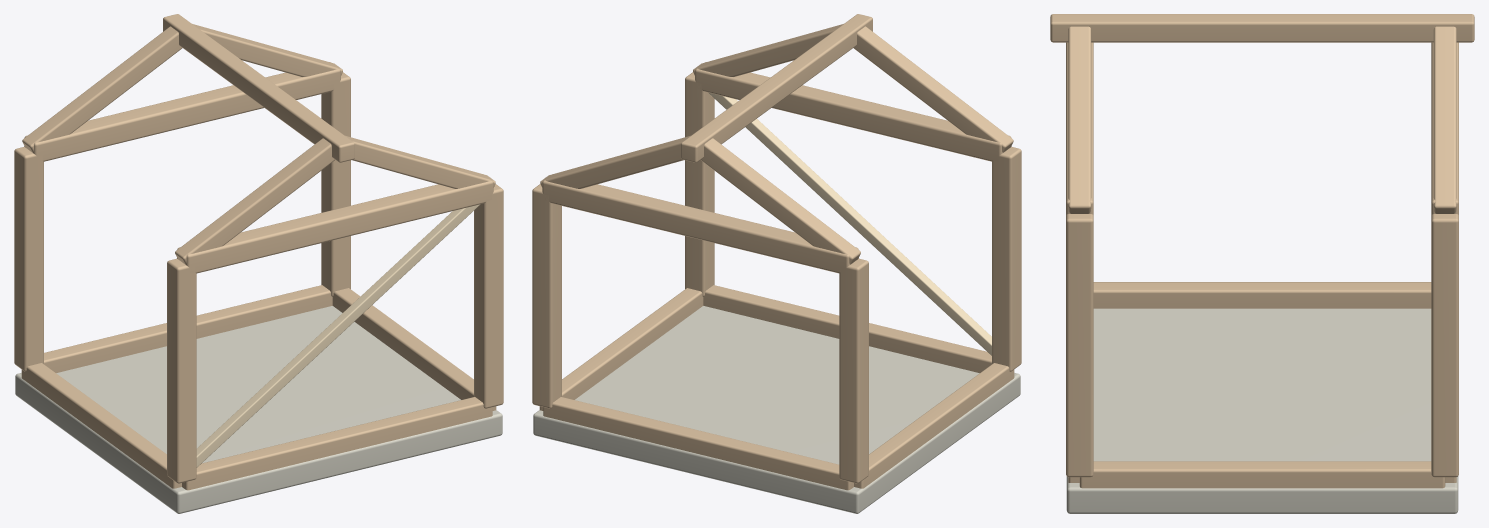
File: family-home-frame.glb
The picture shows the model from 3 angles, left to right: view 1: azimuth 30°, elevation 25°; view 2: azimuth 150°, elevation 25°; view 3: azimuth 270°, elevation 25°; orthographic projection. The views are drawn at different scales.
Visible parts, largest first — view 1: Rounded stone footing.005, Eave beam.006, Eave beam.007, Sill beam.020, Corner post.012, Corner post.013, Corner post.014, Sill beam.021, Ridge beam.003, Temporary brace.001, Gable rafter.012, Gable rafter.014 (+5 smaller); view 2: Rounded stone footing.005, Eave beam.007, Eave beam.006, Sill beam.021, Corner post.013, Corner post.012, Corner post.015, Sill beam.020, Ridge beam.003, Temporary brace.001, Gable rafter.014, Gable rafter.012 (+5 smaller); view 3: Rounded stone footing.005, Ridge beam.003, Sill beam.023, Sill beam.022, Corner post.014, Corner post.015, Gable rafter.013, Gable rafter.015, Eave beam.006, Eave beam.007.
Boxes of the visible parts, x1,y1,x2,y2 form: Rounded stone footing.005: (15, 306, 502, 513); Eave beam.006: (177, 180, 493, 273); Eave beam.007: (24, 62, 340, 161); Sill beam.020: (182, 397, 492, 490); Corner post.012: (167, 258, 196, 483); Corner post.013: (14, 147, 43, 371); Corner post.014: (474, 184, 503, 408); Sill beam.021: (44, 285, 332, 372); Ridge beam.003: (163, 14, 354, 162); Temporary brace.001: (196, 204, 480, 467); Gable rafter.012: (175, 138, 334, 264); Gable rafter.014: (22, 26, 182, 152); Rounded stone footing.005: (533, 306, 1020, 513); Eave beam.007: (542, 180, 858, 273); Eave beam.006: (695, 62, 1011, 161); Sill beam.021: (543, 397, 853, 490); Corner post.013: (839, 258, 868, 483); Corner post.012: (992, 147, 1021, 371); Corner post.015: (532, 184, 561, 408); Sill beam.020: (703, 285, 991, 372); Ridge beam.003: (681, 14, 872, 162); Temporary brace.001: (708, 92, 991, 355); Gable rafter.014: (701, 138, 860, 264); Gable rafter.012: (853, 26, 1013, 152); Rounded stone footing.005: (1066, 308, 1458, 513); Ridge beam.003: (1050, 14, 1474, 42); Sill beam.023: (1079, 461, 1445, 488); Sill beam.022: (1093, 282, 1431, 308); Corner post.014: (1066, 214, 1093, 477); Corner post.015: (1431, 214, 1458, 477); Gable rafter.013: (1068, 26, 1091, 213); Gable rafter.015: (1433, 26, 1456, 213); Eave beam.006: (1066, 42, 1093, 214); Eave beam.007: (1431, 42, 1458, 214).
Size of the model in its own units: 2.77 by 2.72 by 2.6.
